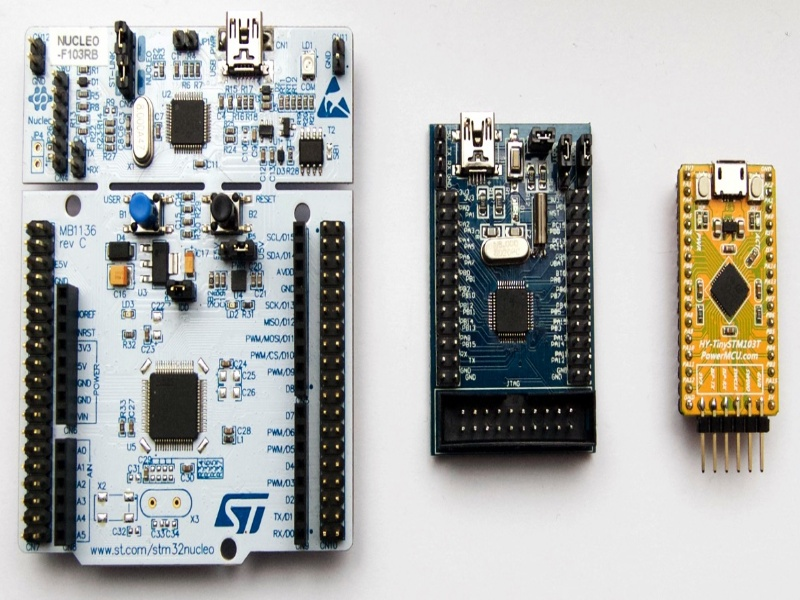stmnucleo: (14, 14, 342, 529)
uno: (418, 97, 617, 491)
